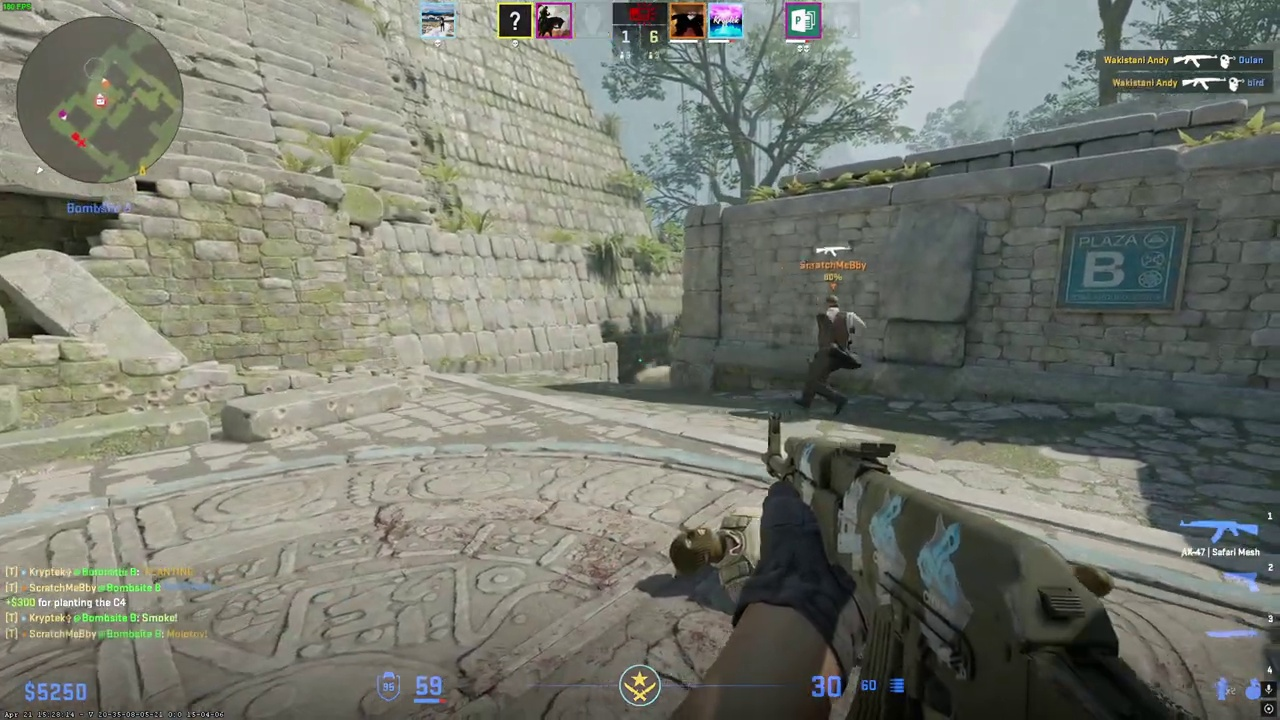Terrorist: (798, 293, 864, 416)
